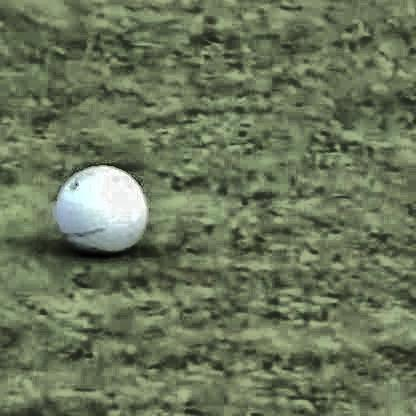golfball: (52, 164, 146, 253)
